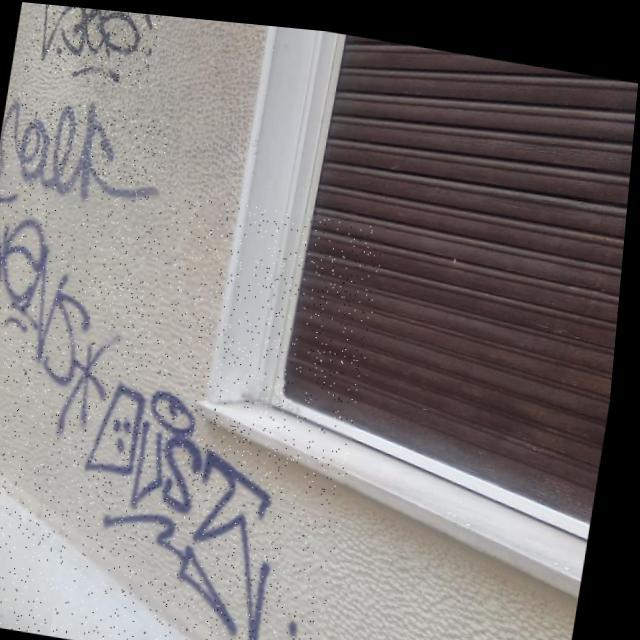-: (0, 161, 391, 640), (0, 89, 175, 209), (24, 2, 165, 90)
